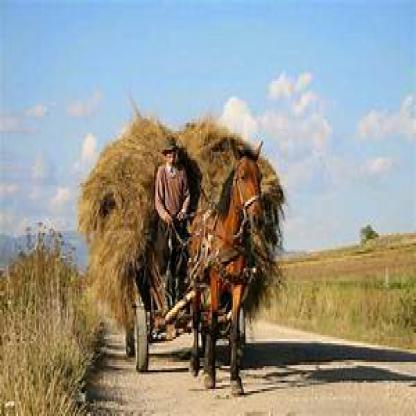horse: (188, 140, 263, 396)
